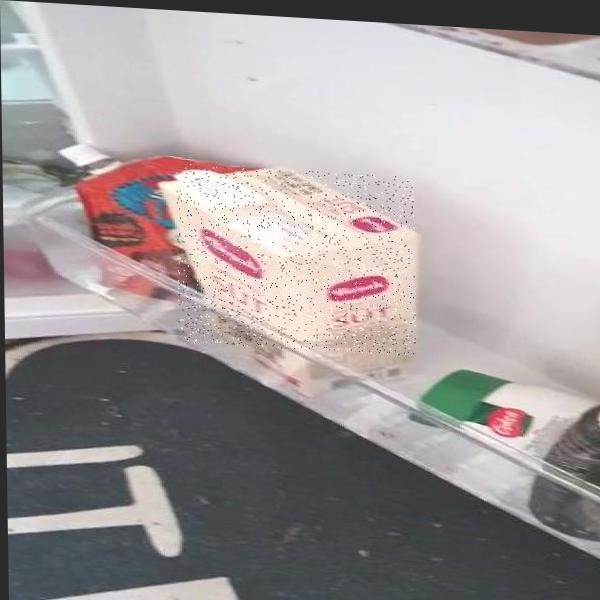milk: (176, 163, 416, 356)
